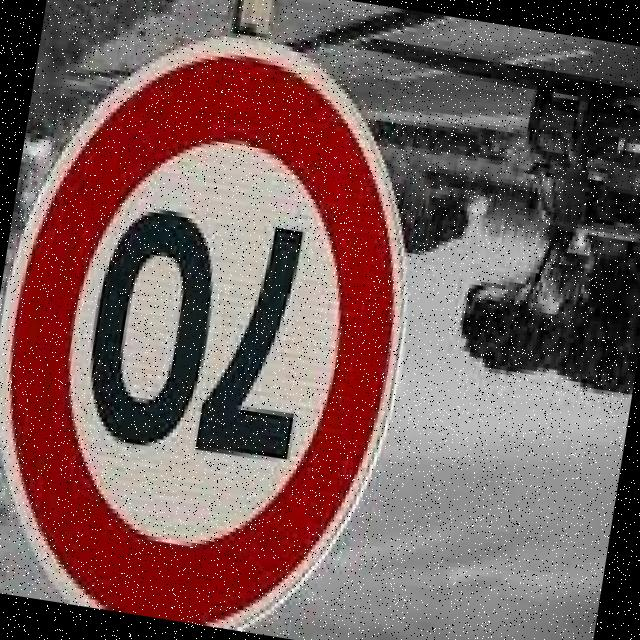speed_limit_70: (0, 9, 455, 640)
